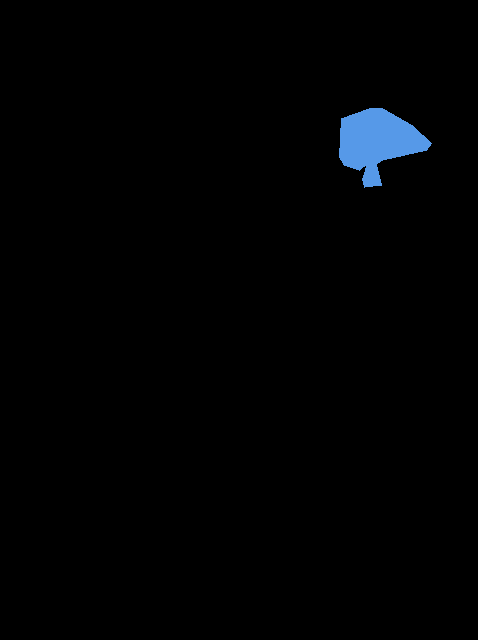Airplane: (339, 108, 431, 187)
